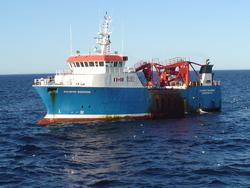Cargoship: (28, 10, 225, 131)
